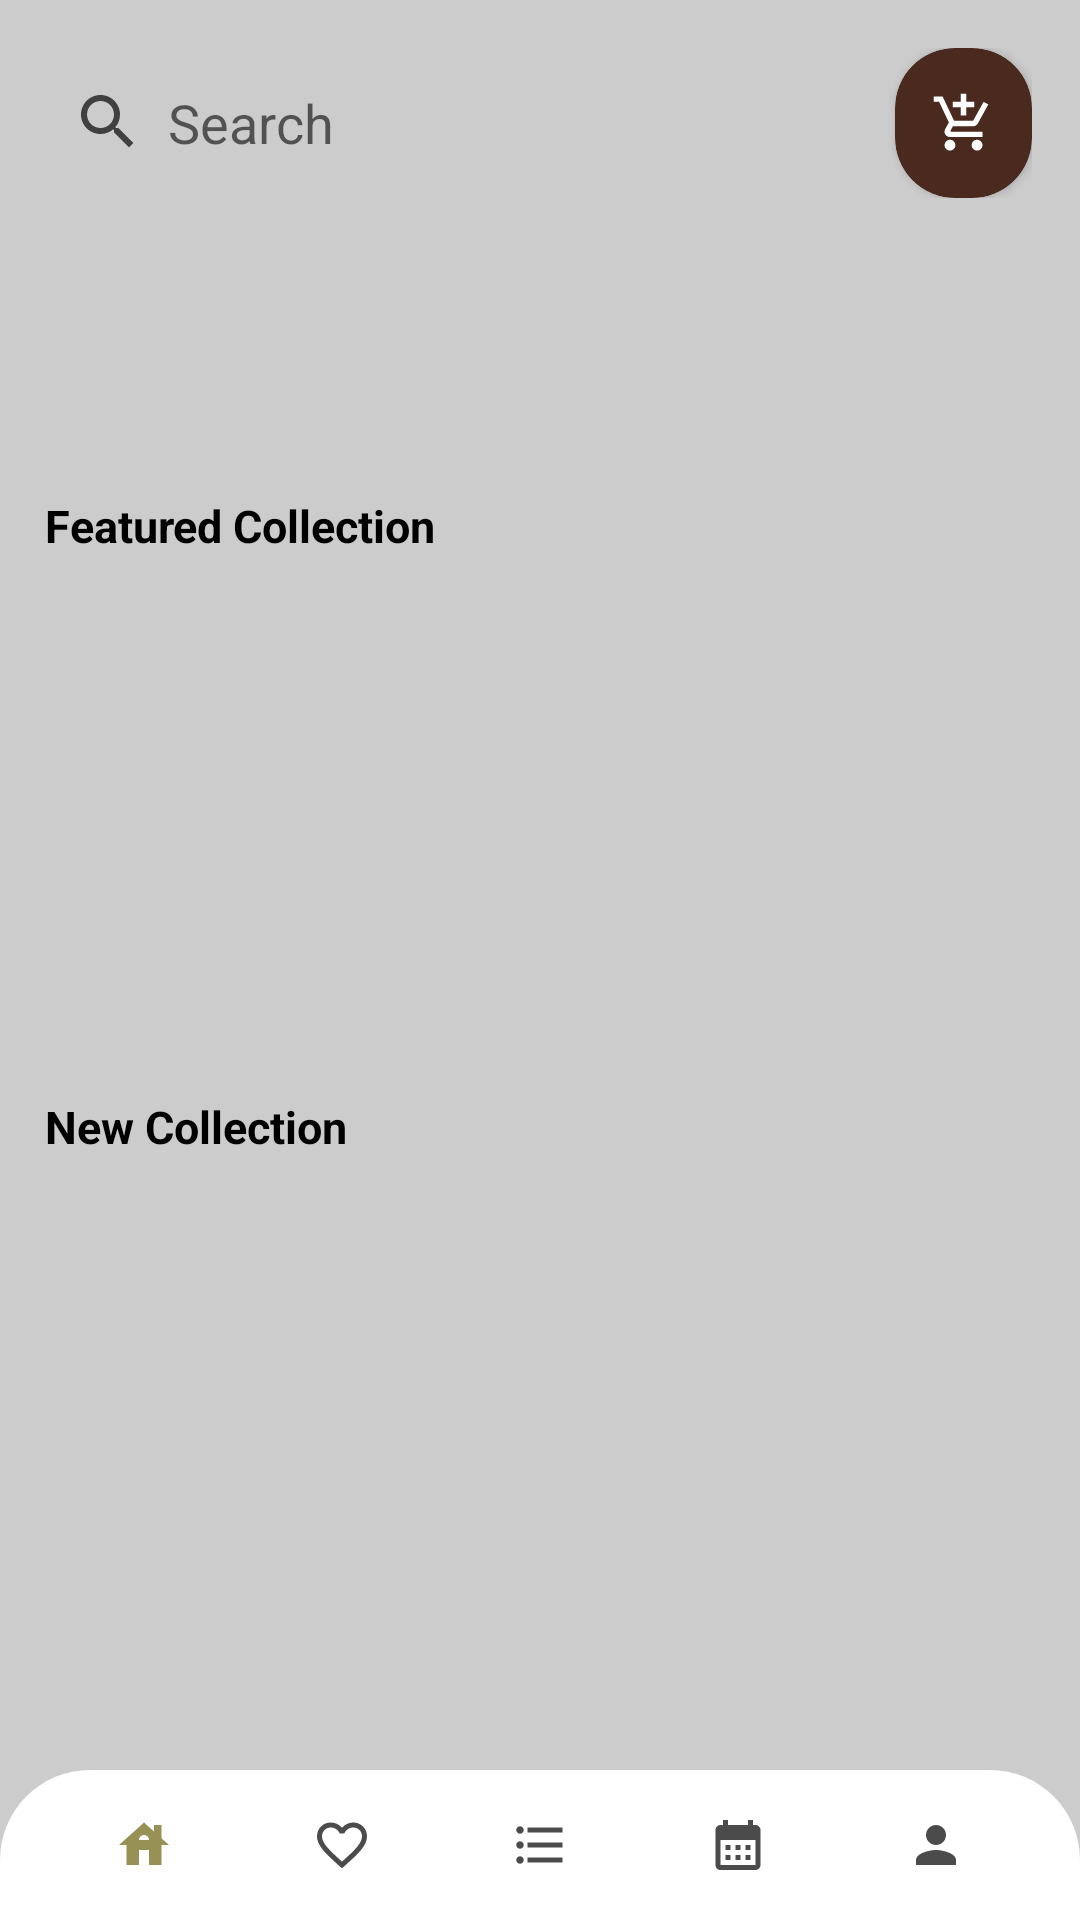

Where icons sit on this 1080x1920 app screen, as (x1, y1, x2, y2):
calendar month: (715, 1820, 761, 1870)
favorite border: (317, 1822, 367, 1868)
format list bulleted: (516, 1826, 563, 1864)
house: (119, 1822, 169, 1865)
person: (916, 1825, 956, 1865)
